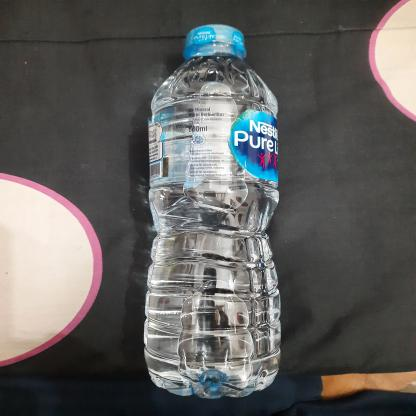plastic: (137, 21, 287, 402)
